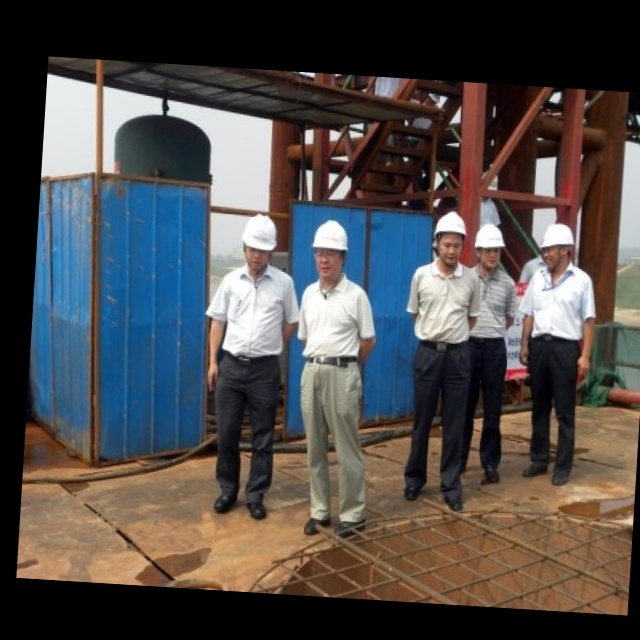Con_Casco: (311, 218, 350, 279)
Sin_Chaleco: (215, 261, 293, 359), (412, 261, 477, 346)
